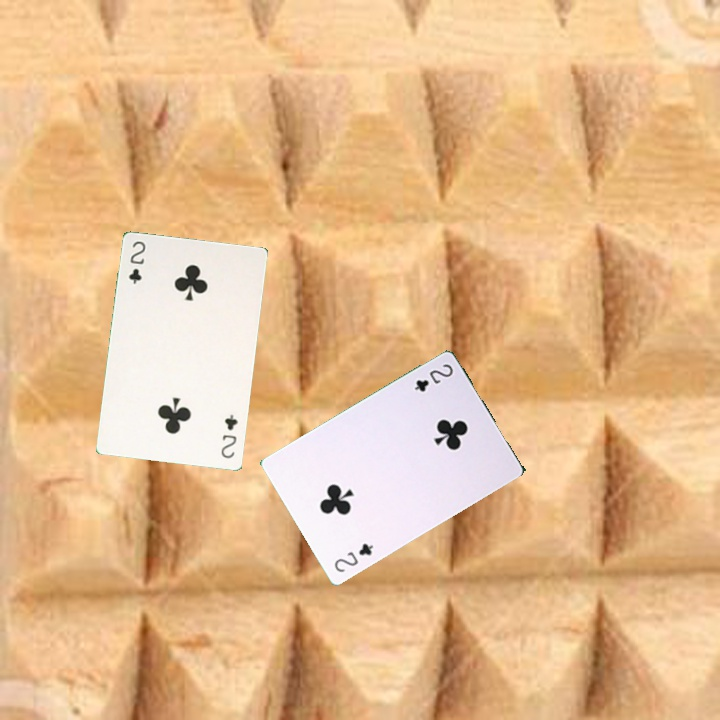2c: (330, 539, 376, 575), (410, 360, 456, 395), (217, 410, 241, 461), (124, 237, 148, 286)
